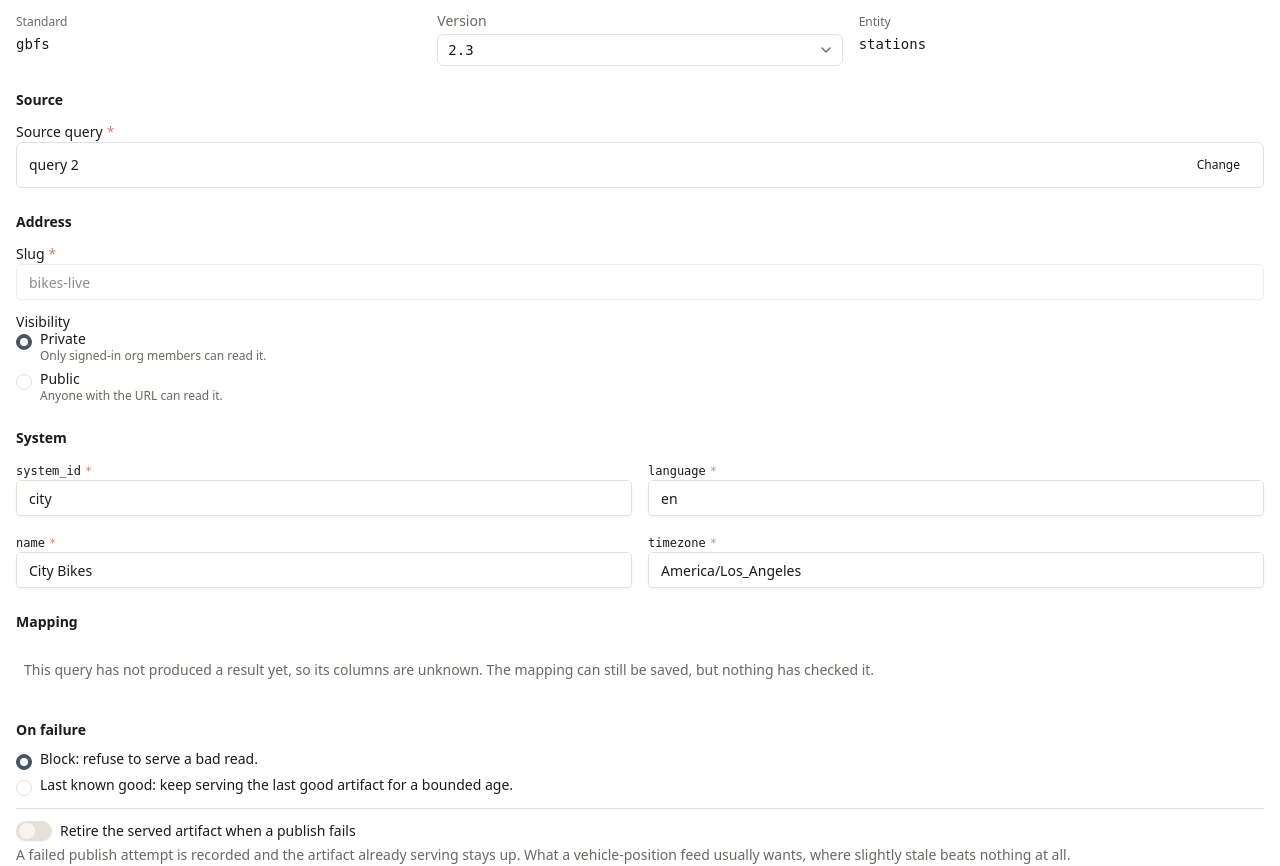
editing a gbfs binding › refuses to save when a required system field has been emptied
This screenshot has width=1280, height=866.
Clear the field showing "city" at x=324, y=498, box [16, 480, 632, 516]
(page scrolled)
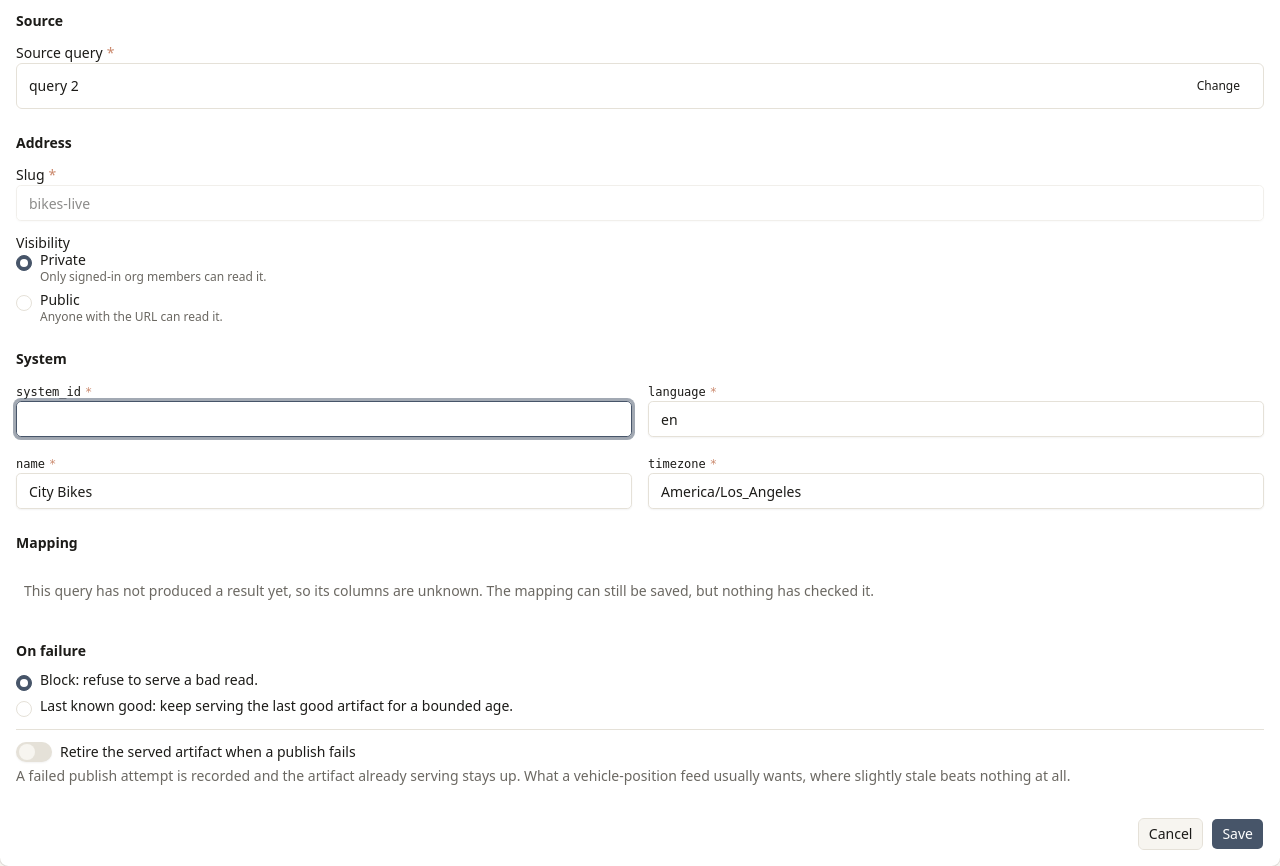
Click the button "Save".
click(1238, 834)  # box [1211, 818, 1264, 850]
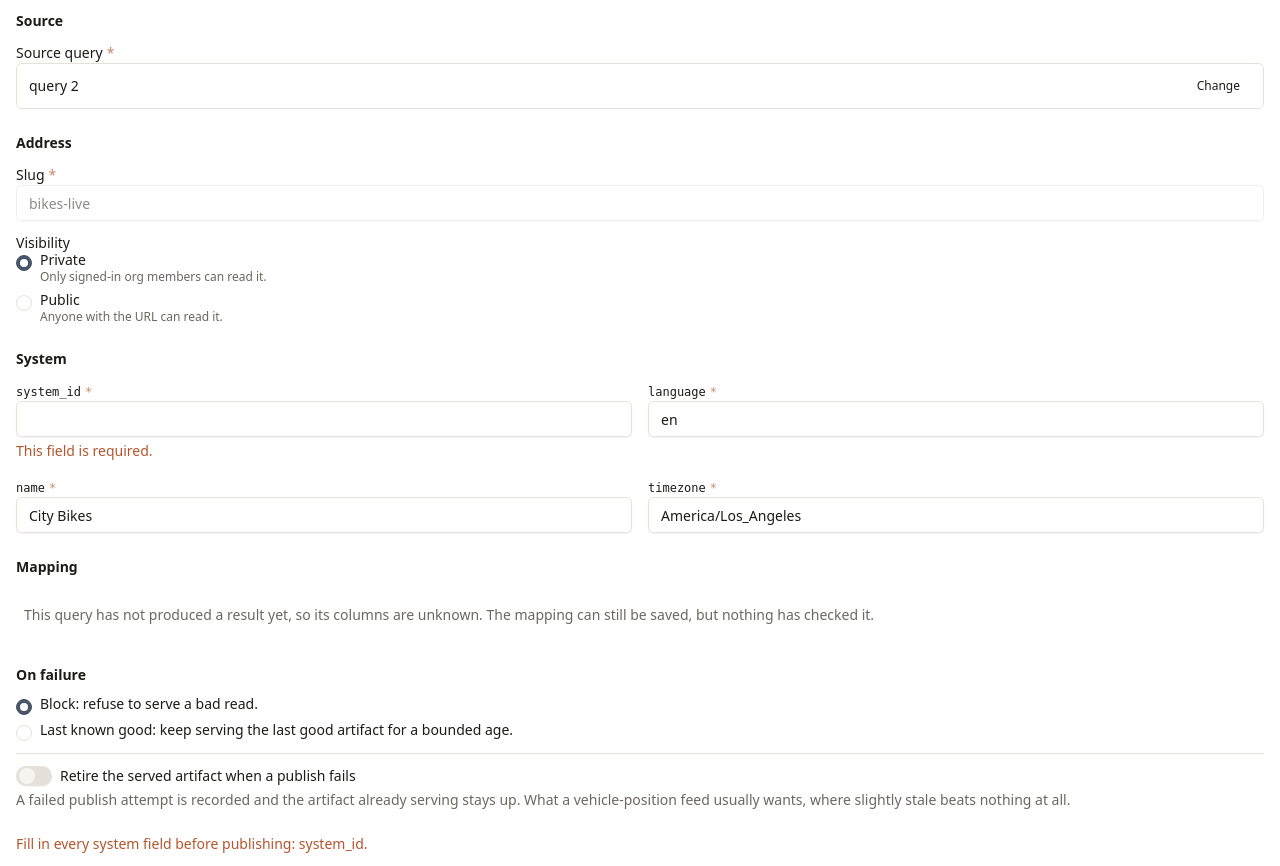
Result: the text "Fill in every system field before publishing: system_id." is shown at [16, 834, 368, 853]
